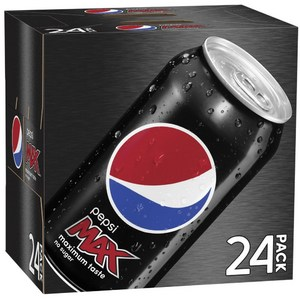pepsi: (108, 121, 216, 234), (108, 123, 216, 234), (108, 123, 203, 207), (6, 113, 23, 169), (115, 20, 158, 31), (82, 7, 124, 14)
